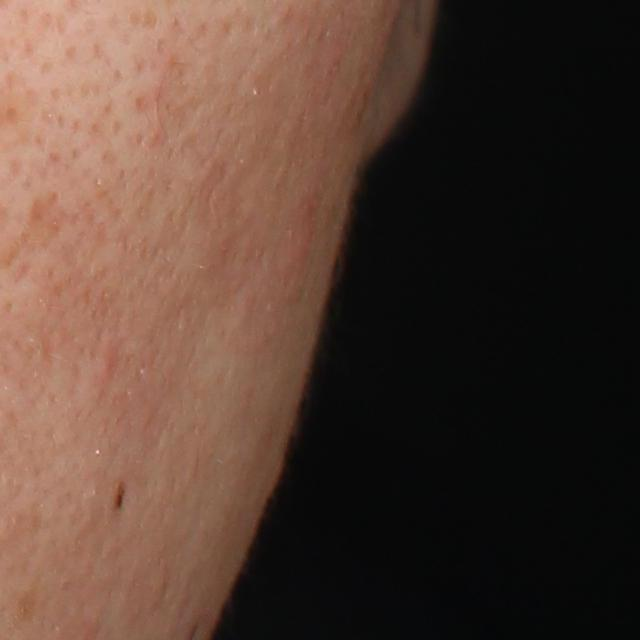atrophic_scar: (0, 188, 74, 273)
nevus: (113, 480, 127, 512)
